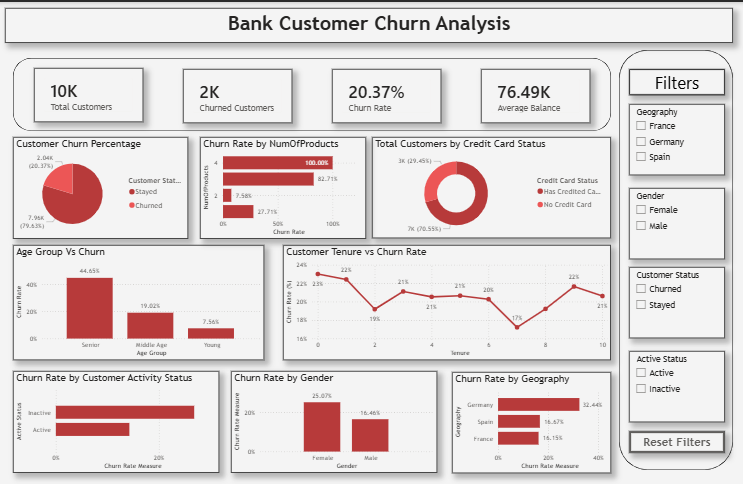

Layout of this report page (visuals, bound fields, positions):
{"tool":"powerbi","page":{"name":"Page 1","canvas":[1390,900],"ordinal":0},"visuals":[{"type":"shape","box":[24.3,104.6,1116.6,136.3],"z":0},{"type":"shape","box":[1155.8,89.6,212.9,784.2],"z":1000},{"type":"textbox","box":[9.3,11.2,1359.3,65.4],"z":2000},{"type":"cardVisual","title":"Total Customers","fields":{"Data":["cleaned_churn_data.Total Customers"]},"box":[63.5,123.2,203.5,100.8],"z":3000},{"type":"cardVisual","fields":{"Data":["cleaned_churn_data.Churned Customers"]},"box":[341.7,125.1,203.5,100.8],"z":4000},{"type":"cardVisual","fields":{"Data":["cleaned_churn_data.Churn Rate"]},"box":[619.9,125.1,203.5,100.8],"z":5000},{"type":"cardVisual","fields":{"Data":["cleaned_churn_data.Average Balance"]},"box":[898.1,125.1,203.5,100.8],"z":6000},{"type":"pieChart","title":"Customer Churn Percentage","fields":{"Category":["cleaned_churn_data.Customer Status"],"Y":["CountNonNull(cleaned_churn_data.Customer Status)"]},"box":[24.3,252.1,326.8,190.5],"z":7000},{"type":"clusteredBarChart","title":"Churn Rate by Geography","fields":{"Category":["cleaned_churn_data.Geography"],"Y":["cleaned_churn_data.Churn Rate Measure"]},"box":[844,690.9,296.9,188.6],"z":8000},{"type":"clusteredColumnChart","title":"Churn Rate by Gender","fields":{"Category":["cleaned_churn_data.Gender"],"Y":["cleaned_churn_data.Churn Rate Measure"]},"box":[431.3,689,384.6,190.5],"z":9000},{"type":"donutChart","fields":{"Category":["cleaned_churn_data.Credit Card Status"],"Y":["cleaned_churn_data.Total Customers"]},"box":[694.6,252.1,446.3,188.6],"z":10000},{"type":"clusteredColumnChart","title":"Age Group Vs Churn","fields":{"Category":["cleaned_churn_data.Age Group"],"Y":["cleaned_churn_data.Churn Rate"]},"box":[24.3,453.7,468.7,214.7],"z":11000},{"type":"lineChart","title":"Customer Tenure vs Churn Rate","fields":{"Category":["cleaned_churn_data.Tenure"],"Y":["Avg(cleaned_churn_data.Exited)"]},"box":[528.4,453.7,612.4,214.7],"z":12000},{"type":"barChart","title":"Churn Rate by Customer Activity Status","fields":{"Category":["cleaned_churn_data.Active Status"],"Y":["cleaned_churn_data.Churn Rate Measure"]},"box":[24.3,689,384.6,190.5],"z":13000},{"type":"slicer","fields":{"Values":["cleaned_churn_data.Geography"]},"box":[1174.5,190.5,179.3,132.6],"z":14000},{"type":"slicer","fields":{"Values":["cleaned_churn_data.Gender"]},"box":[1174.5,347.3,179.3,132.6],"z":15000},{"type":"slicer","fields":{"Values":["cleaned_churn_data.Customer Status"]},"box":[1174.5,494.8,179.3,132.6],"z":16000},{"type":"slicer","fields":{"Values":["cleaned_churn_data.Active Status"]},"box":[1174.5,651.7,179.3,132.6],"z":17000},{"type":"clusteredBarChart","fields":{"Category":["cleaned_churn_data.NumOfProducts"],"Y":["cleaned_churn_data.Churn Rate"]},"box":[373.4,252.1,310,190.5],"z":18000},{"type":"actionButton","box":[1174.5,801,179.3,41.1],"z":19000},{"type":"shape","box":[1174.5,125.1,179.3,48.5],"z":20000}]}

Visuals, with their boxes in screenshot pixels (x1, y1, x2, y2), scaled from the page's 1390x900 canvas onto the 743x484 screenshot:
shape: {"left": 13, "top": 56, "right": 610, "bottom": 130}
shape: {"left": 618, "top": 48, "right": 732, "bottom": 470}
textbox: {"left": 5, "top": 6, "right": 732, "bottom": 41}
"Total Customers" cardVisual: {"left": 34, "top": 66, "right": 143, "bottom": 120}
cardVisual - cleaned_churn_data.Churned Customers: {"left": 183, "top": 67, "right": 291, "bottom": 121}
cardVisual - cleaned_churn_data.Churn Rate: {"left": 331, "top": 67, "right": 440, "bottom": 121}
cardVisual - cleaned_churn_data.Average Balance: {"left": 480, "top": 67, "right": 589, "bottom": 121}
"Customer Churn Percentage" pieChart: {"left": 13, "top": 136, "right": 188, "bottom": 238}
"Churn Rate by Geography" clusteredBarChart: {"left": 451, "top": 372, "right": 610, "bottom": 473}
"Churn Rate by Gender" clusteredColumnChart: {"left": 231, "top": 371, "right": 436, "bottom": 473}
donutChart - cleaned_churn_data.Credit Card Status x cleaned_churn_data.Total Customers: {"left": 371, "top": 136, "right": 610, "bottom": 237}
"Age Group Vs Churn" clusteredColumnChart: {"left": 13, "top": 244, "right": 264, "bottom": 359}
"Customer Tenure vs Churn Rate" lineChart: {"left": 282, "top": 244, "right": 610, "bottom": 359}
"Churn Rate by Customer Activity Status" barChart: {"left": 13, "top": 371, "right": 219, "bottom": 473}
slicer - cleaned_churn_data.Geography: {"left": 628, "top": 102, "right": 724, "bottom": 174}
slicer - cleaned_churn_data.Gender: {"left": 628, "top": 187, "right": 724, "bottom": 258}
slicer - cleaned_churn_data.Customer Status: {"left": 628, "top": 266, "right": 724, "bottom": 337}
slicer - cleaned_churn_data.Active Status: {"left": 628, "top": 350, "right": 724, "bottom": 422}
clusteredBarChart - cleaned_churn_data.NumOfProducts x cleaned_churn_data.Churn Rate: {"left": 200, "top": 136, "right": 365, "bottom": 238}
actionButton: {"left": 628, "top": 431, "right": 724, "bottom": 453}
shape: {"left": 628, "top": 67, "right": 724, "bottom": 93}
